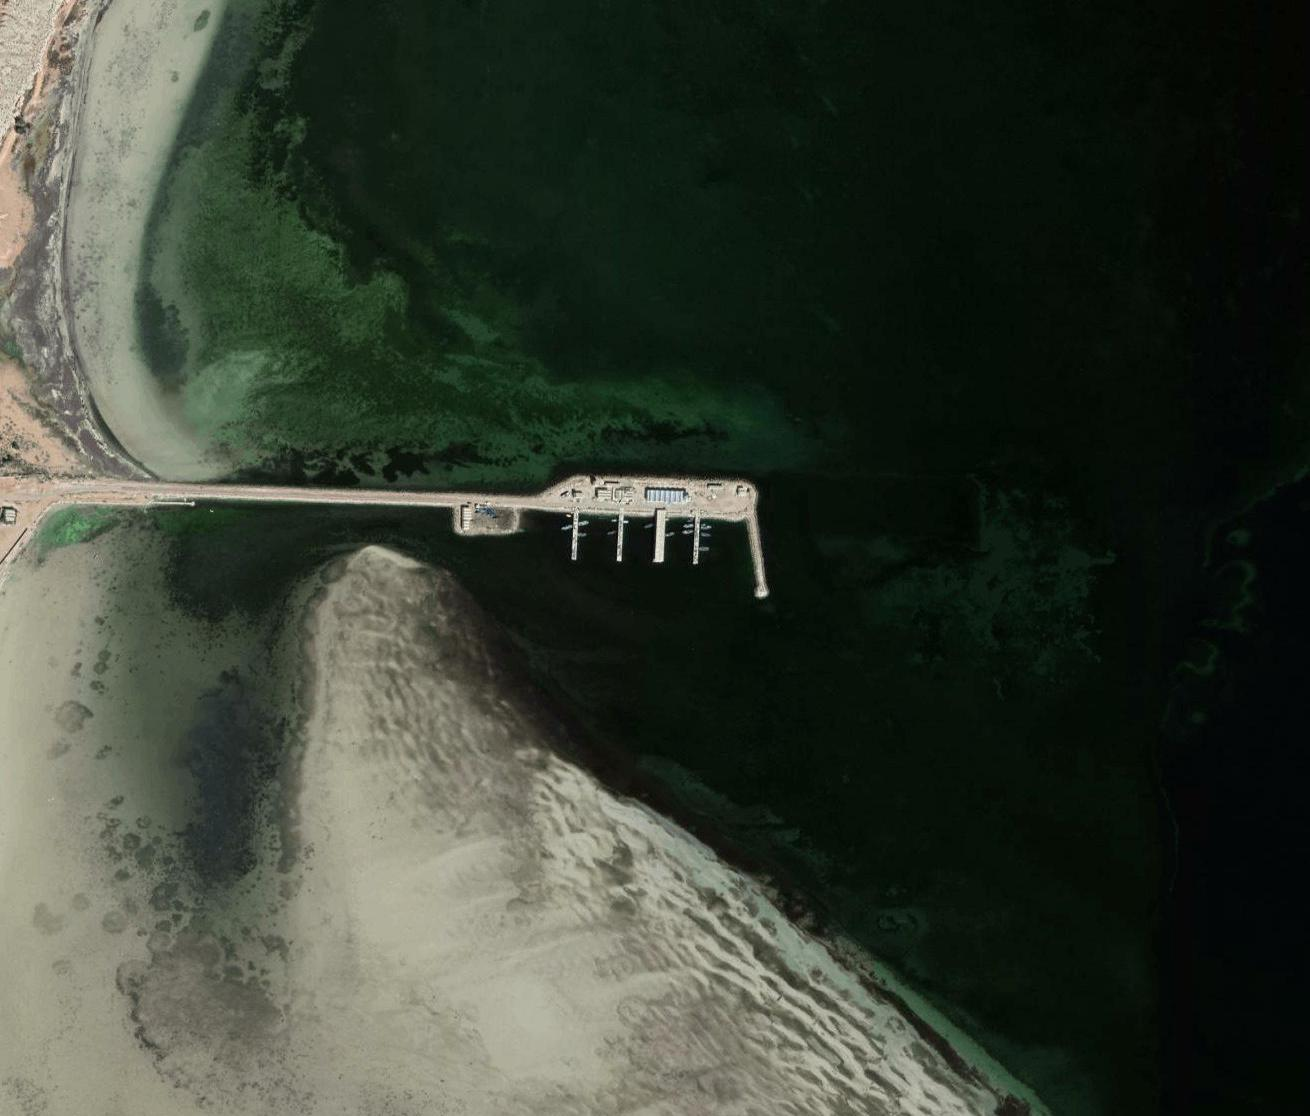harbor: (457, 459, 777, 617)
